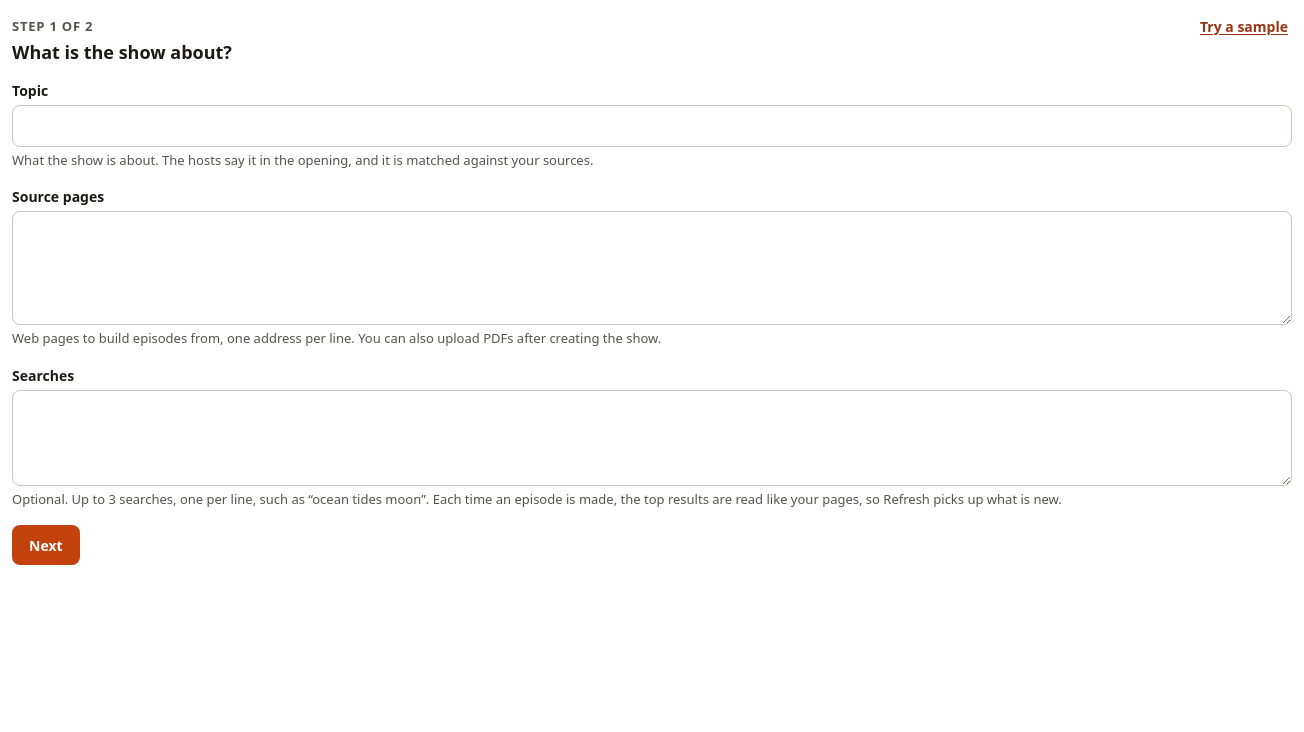
Test: sample show › fills a ready topic and open-licence sources
The width and height of the screenshot is (1304, 732).
Later steps or results of the test are not shown.
Click the button "Try a sample" at (1244, 26), box [1196,12,1292,41]
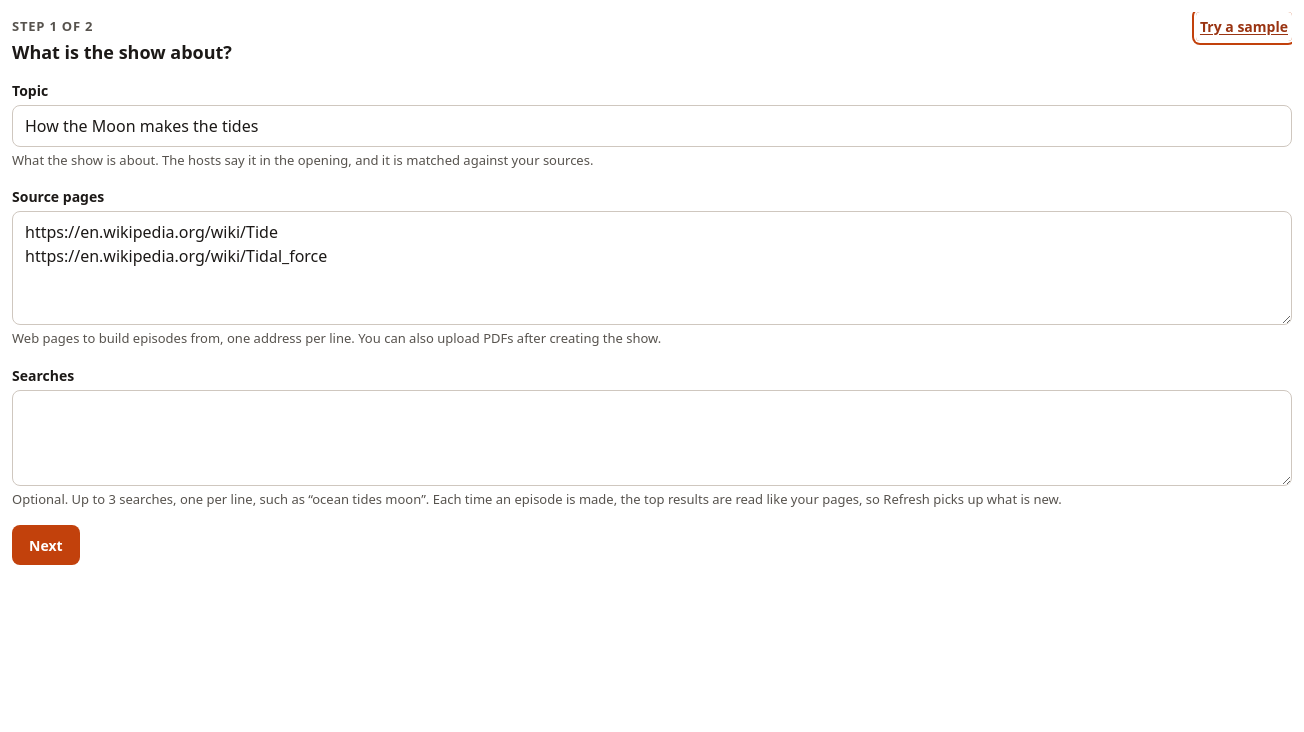
Check: the field labelled "Topic" holds "How the Moon makes the tides", box [12,104,1292,146]
